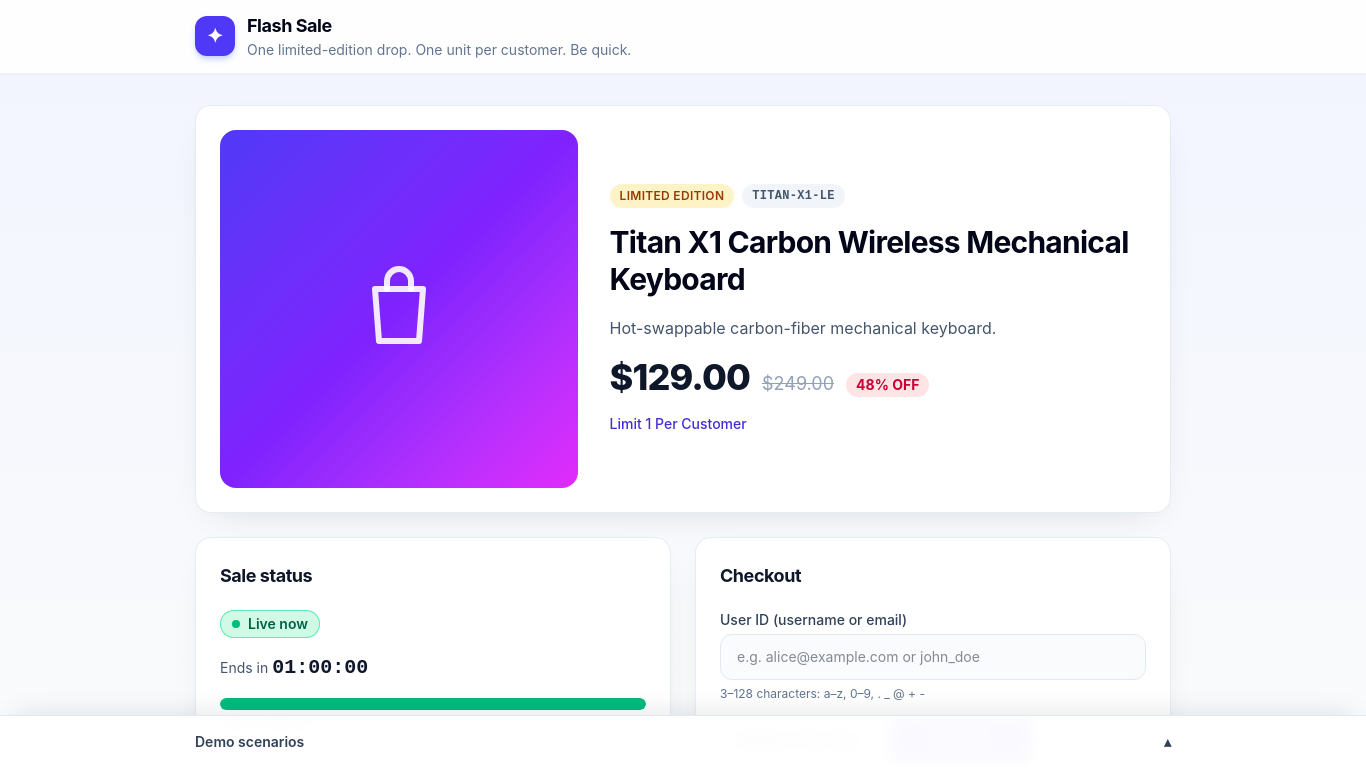
App › swaps the sale pill to Ended as soon as the Ended Sale scenario is applied
expect the text "Live now" is shown: met, box [220,610,320,638]
Click the button "Demo scenarios ▴" at point(250, 742), box [195,716,1171,767]
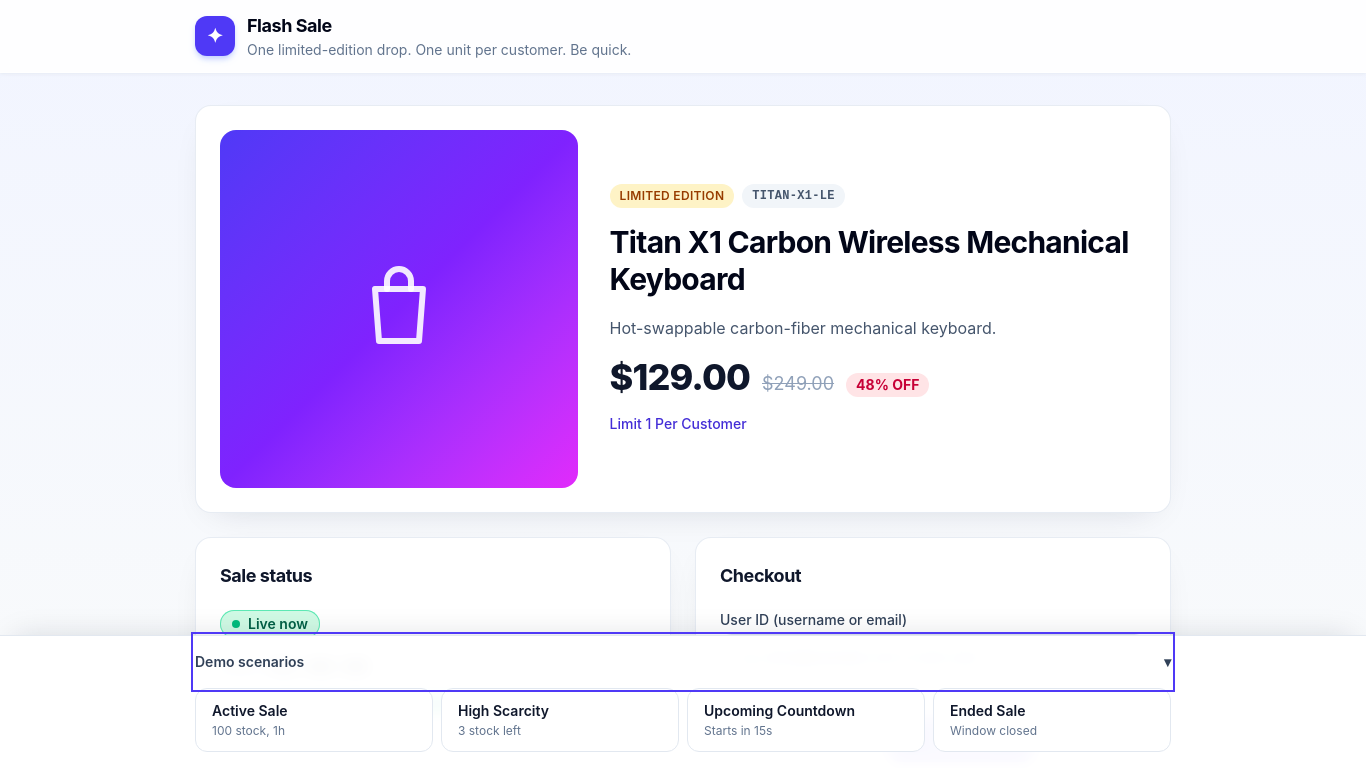
Click the button "Ended Sale Window closed" at point(1052, 720), box [933,688,1171,752]
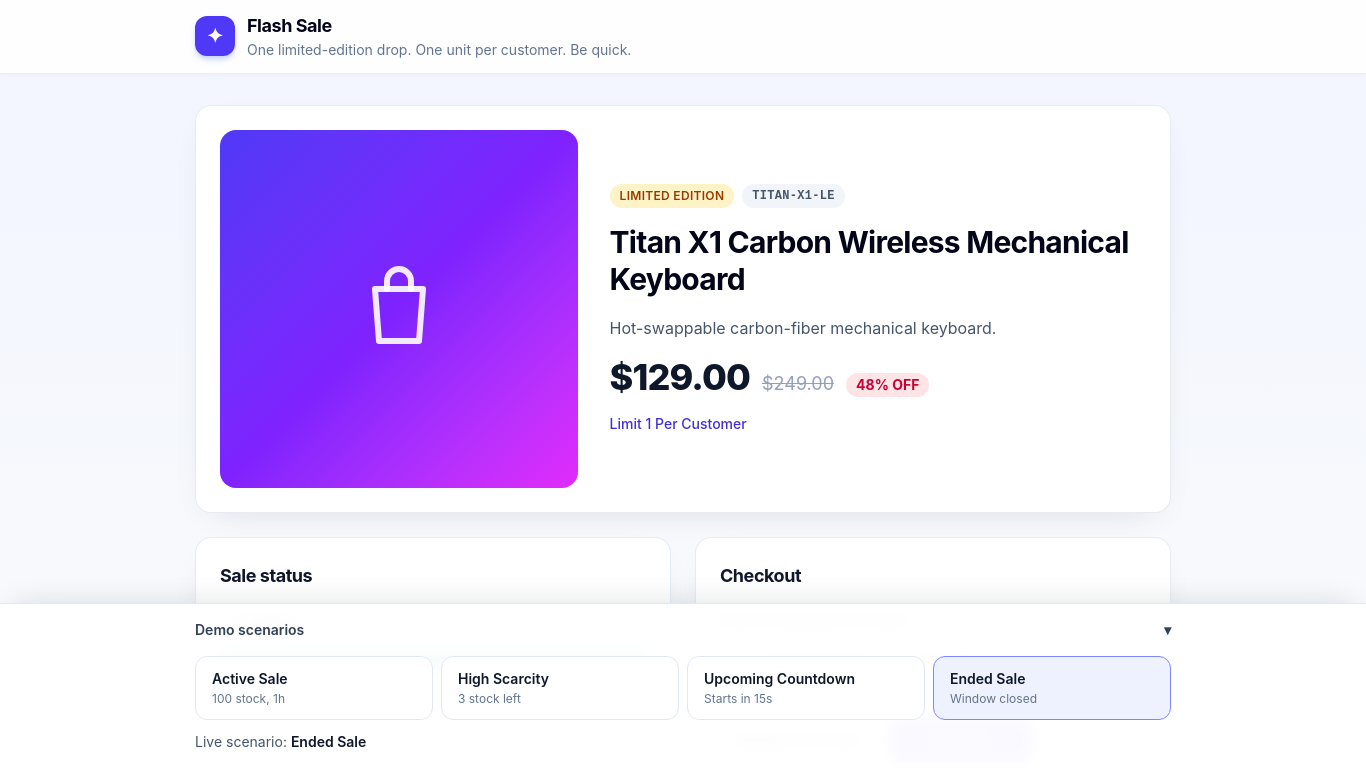
expect the text "Ended" is shown: met, box [220,610,303,638]
expect the text "Live now" is gone: met
